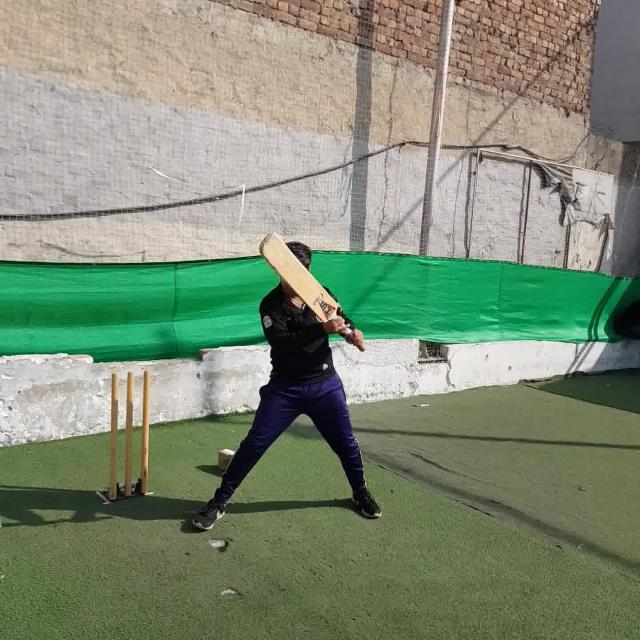bat: (259, 230, 363, 349)
